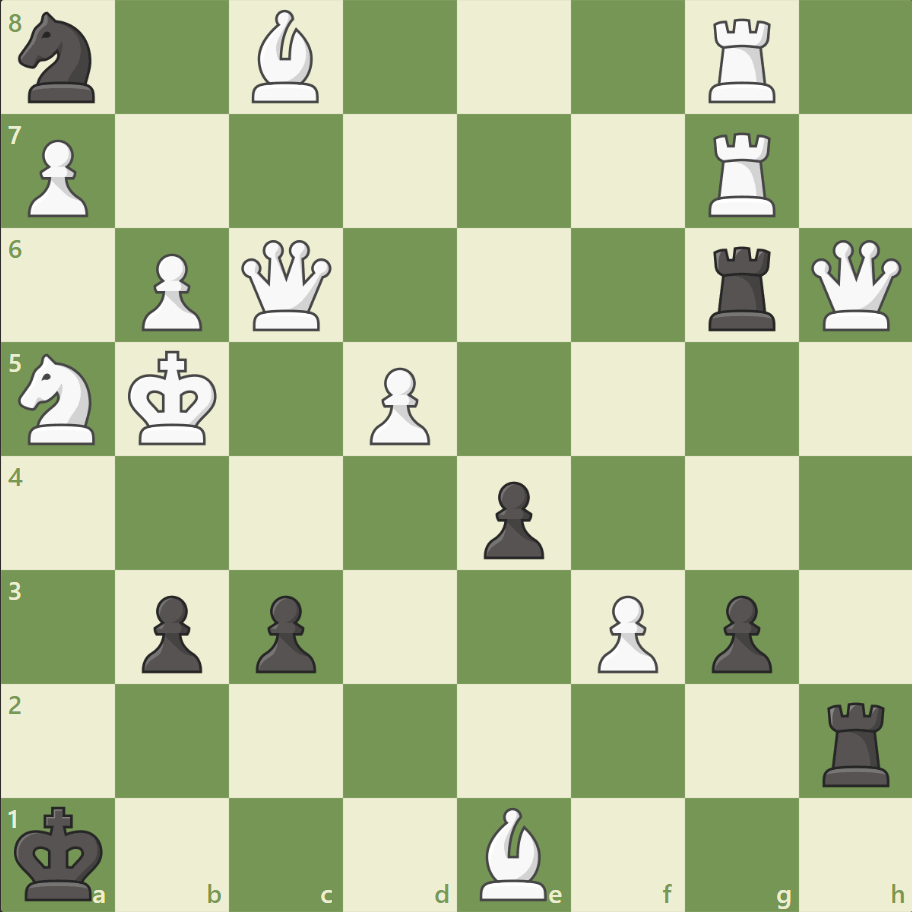B: (244, 6, 328, 109), (471, 801, 555, 904)
K: (124, 344, 224, 452)
N: (11, 348, 108, 450)
P: (20, 132, 95, 223), (133, 246, 208, 337), (361, 359, 435, 450), (588, 586, 662, 677)
Q: (237, 236, 336, 335), (805, 236, 904, 335)
R: (700, 12, 783, 109), (700, 125, 783, 222)
k: (11, 798, 111, 906)
n: (11, 7, 108, 110)
p: (474, 473, 549, 564), (133, 586, 208, 677), (247, 586, 322, 677), (701, 586, 776, 677)
r: (700, 239, 783, 336), (814, 693, 897, 790)
